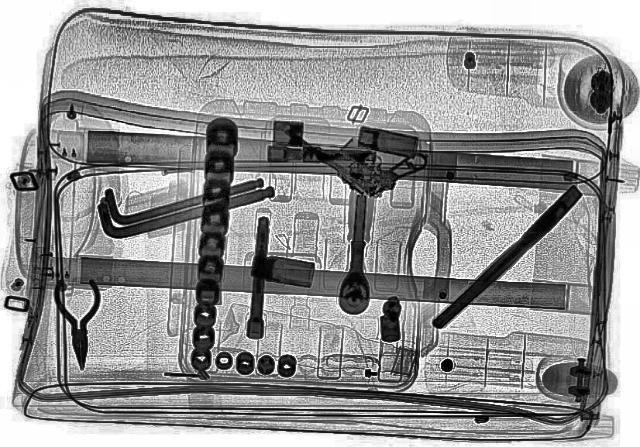Gun: (275, 89, 433, 203)
Pliers: (51, 278, 104, 370)
